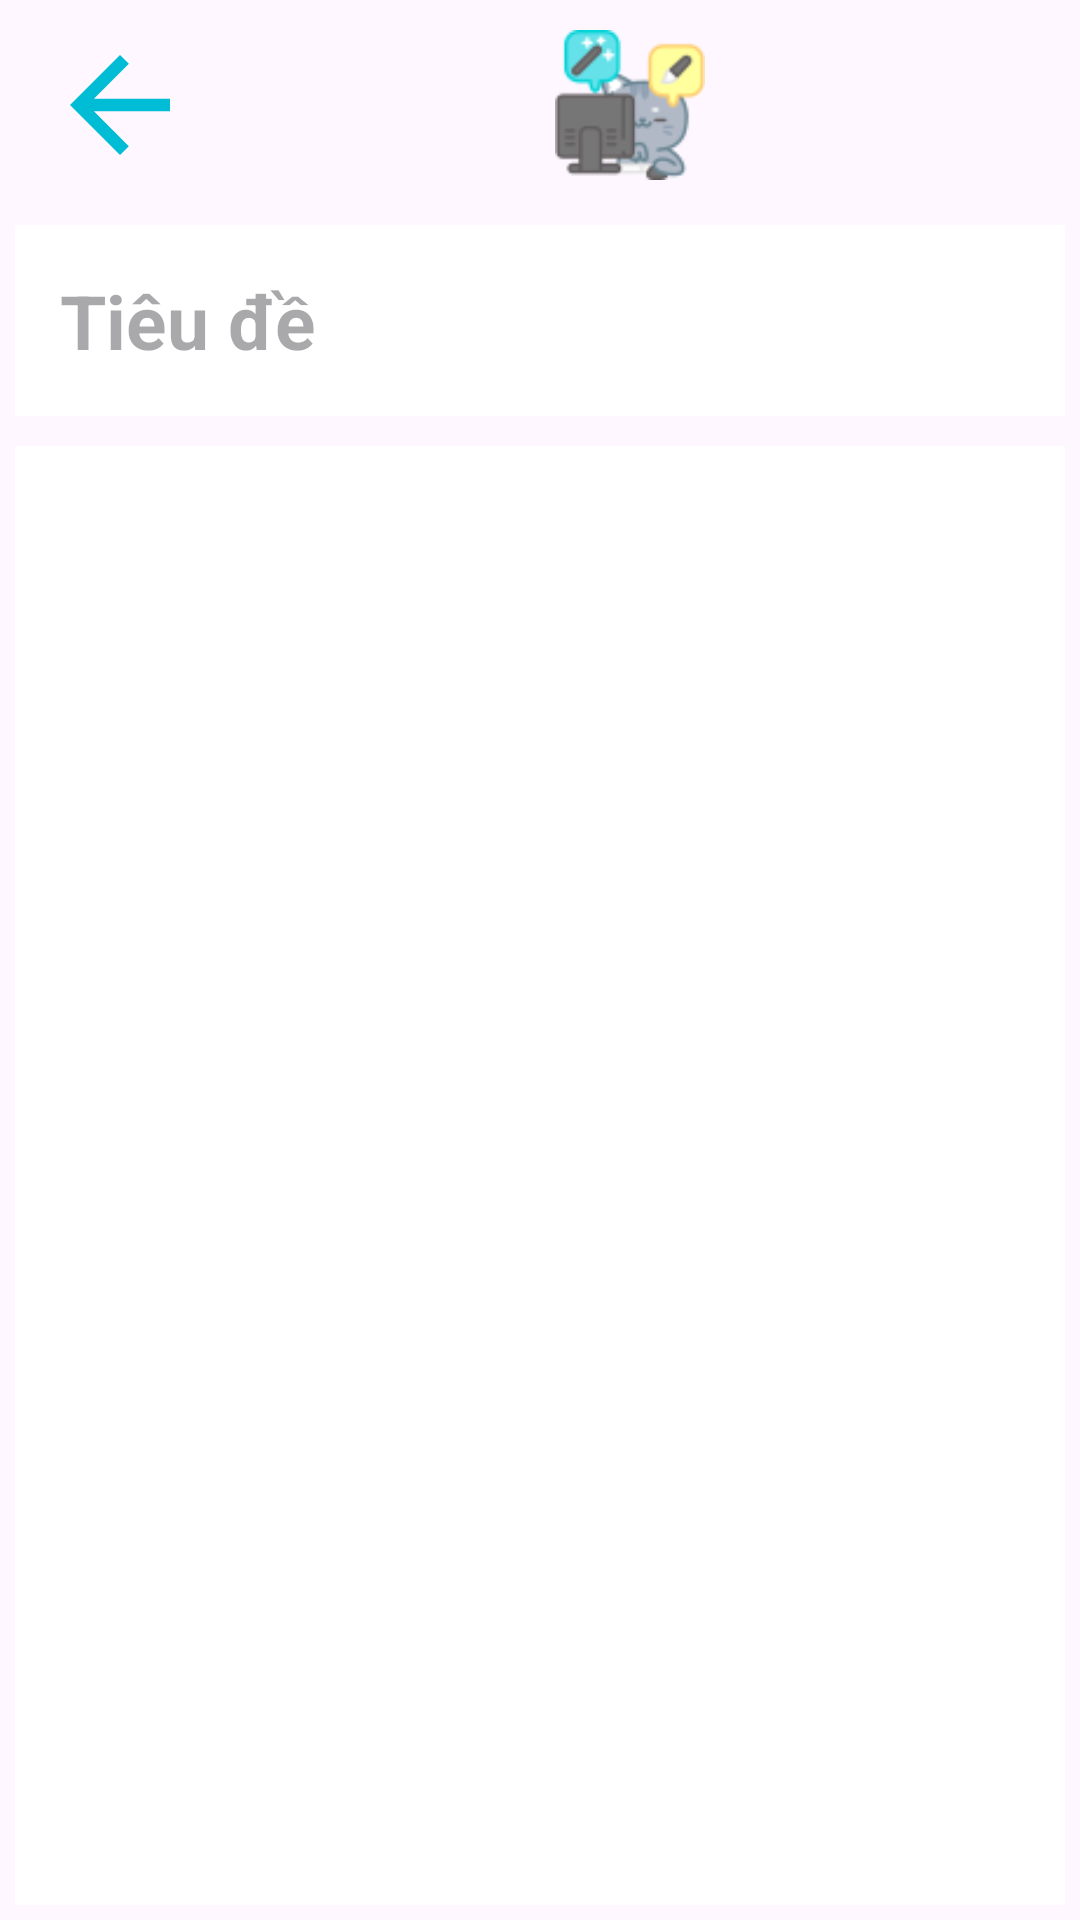

Icons on this 1080*1920 Android screen, each with the point to tap as (x=x, y=y):
arrow back: (x=120, y=105)
photocat editing: (x=630, y=105)
